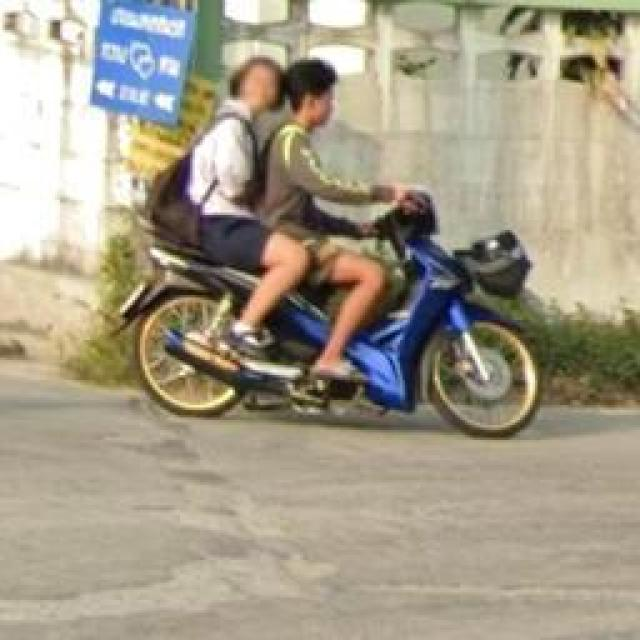Motor: (118, 192, 542, 438)
